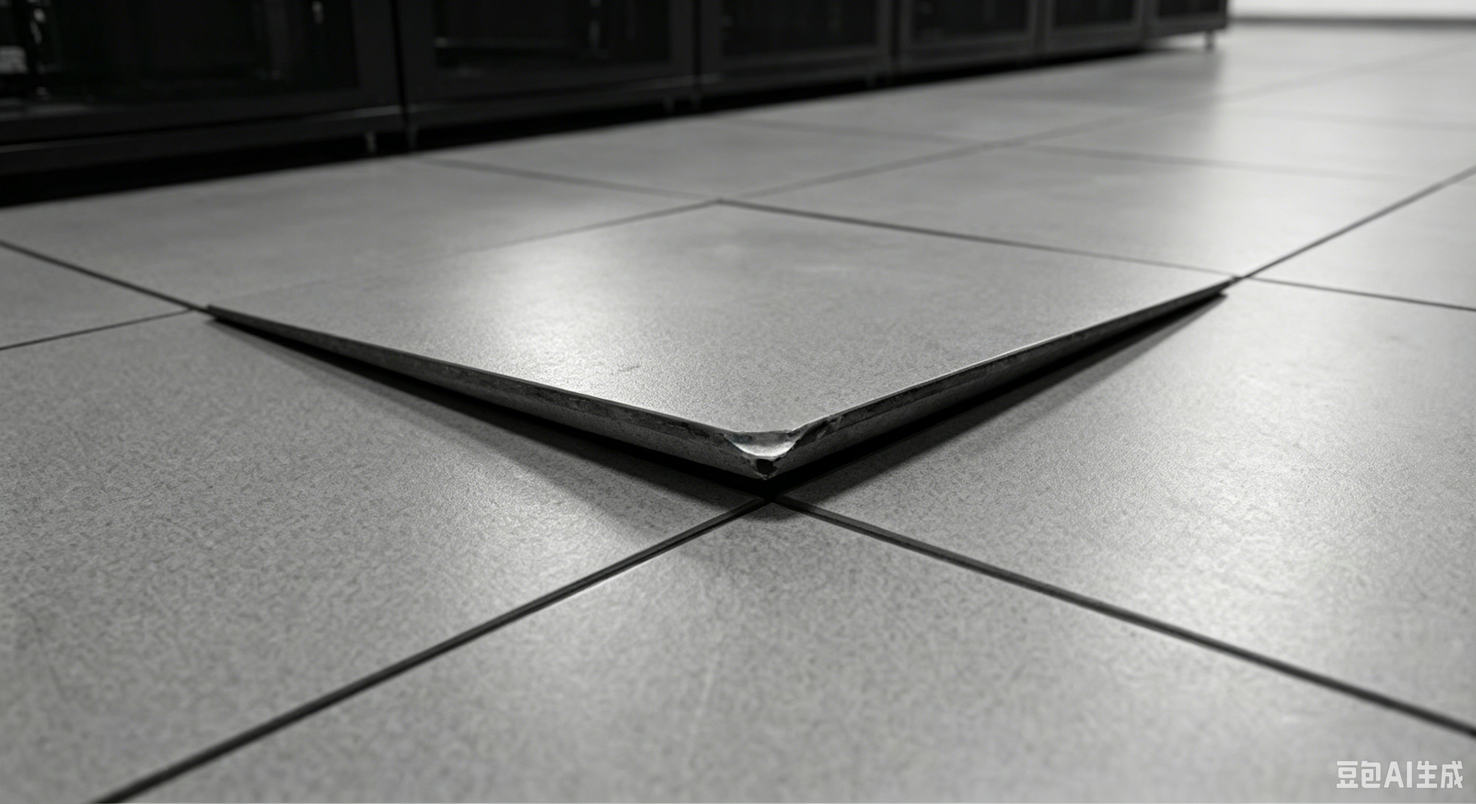floor_defect: (194, 275, 1333, 495)
